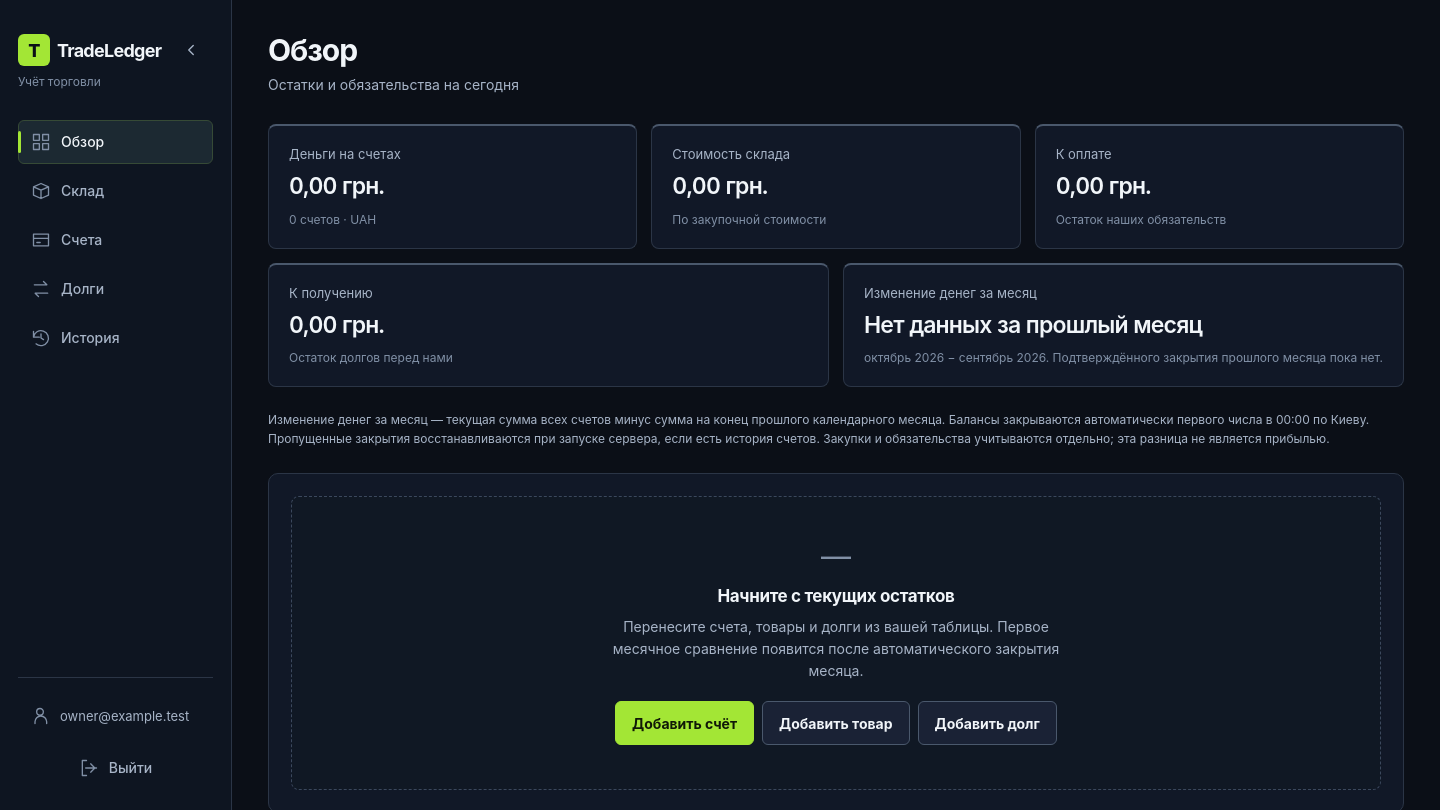
Test: sidebar › keeps the toggle usable when local preferences cannot be read or saved
The image size is (1440, 810).
Click the button named "Свернуть панель" at (191, 50), box [169,28,213,72]
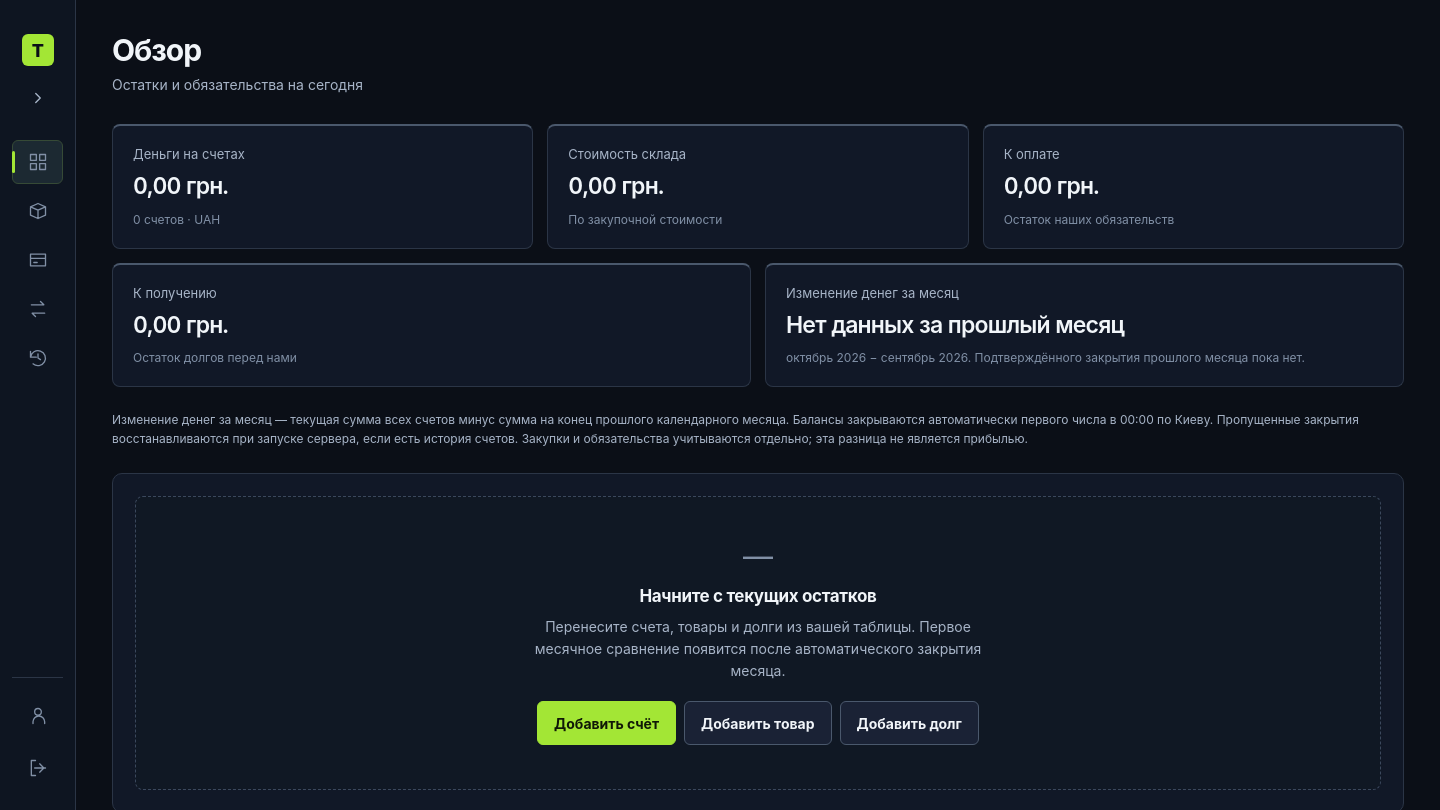
Expected: the button named "Развернуть панель" is collapsed
Click the button named "Развернуть панель" at (38, 98), box [16,76,60,120]
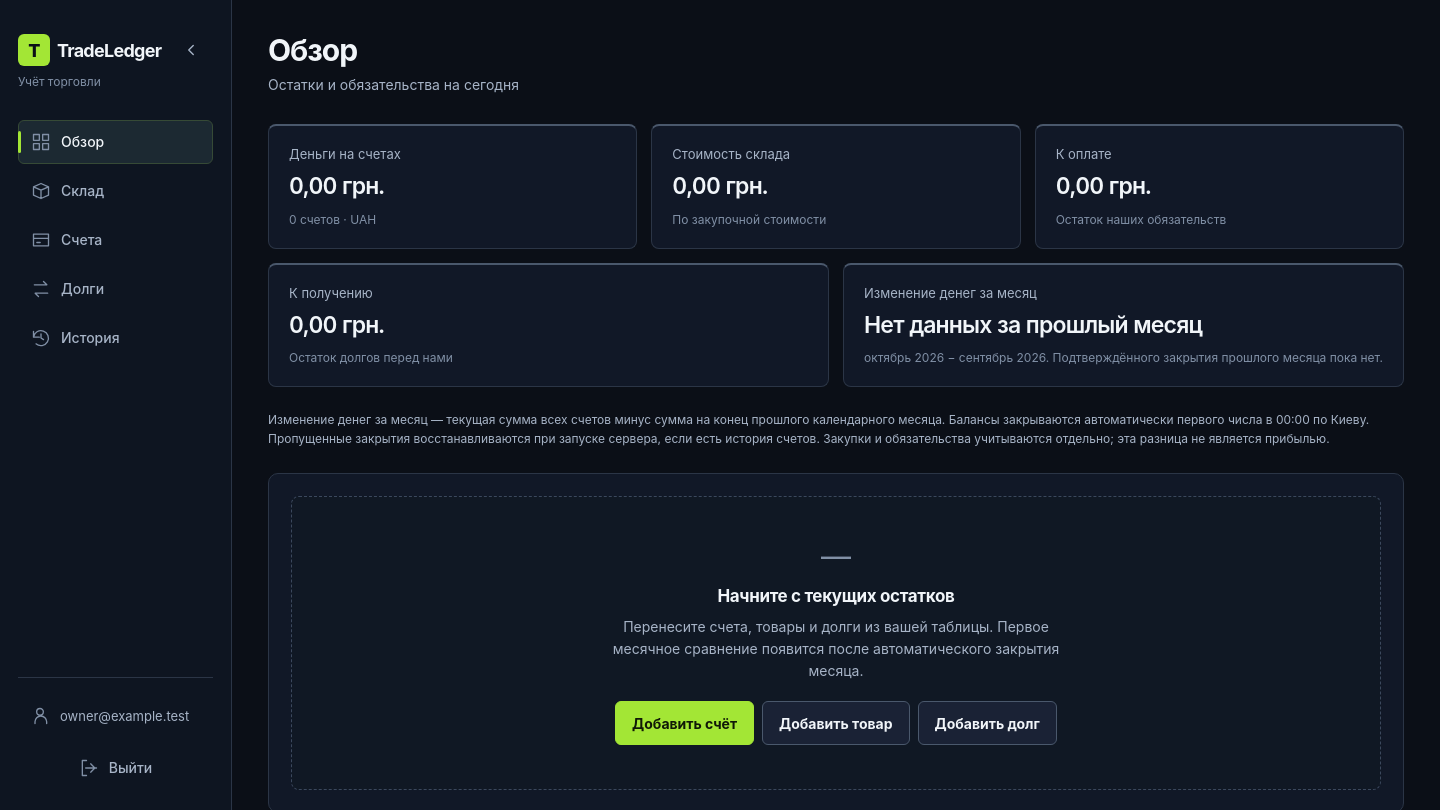
Expected: the button named "Свернуть панель" is expanded, [169,28,213,72]
